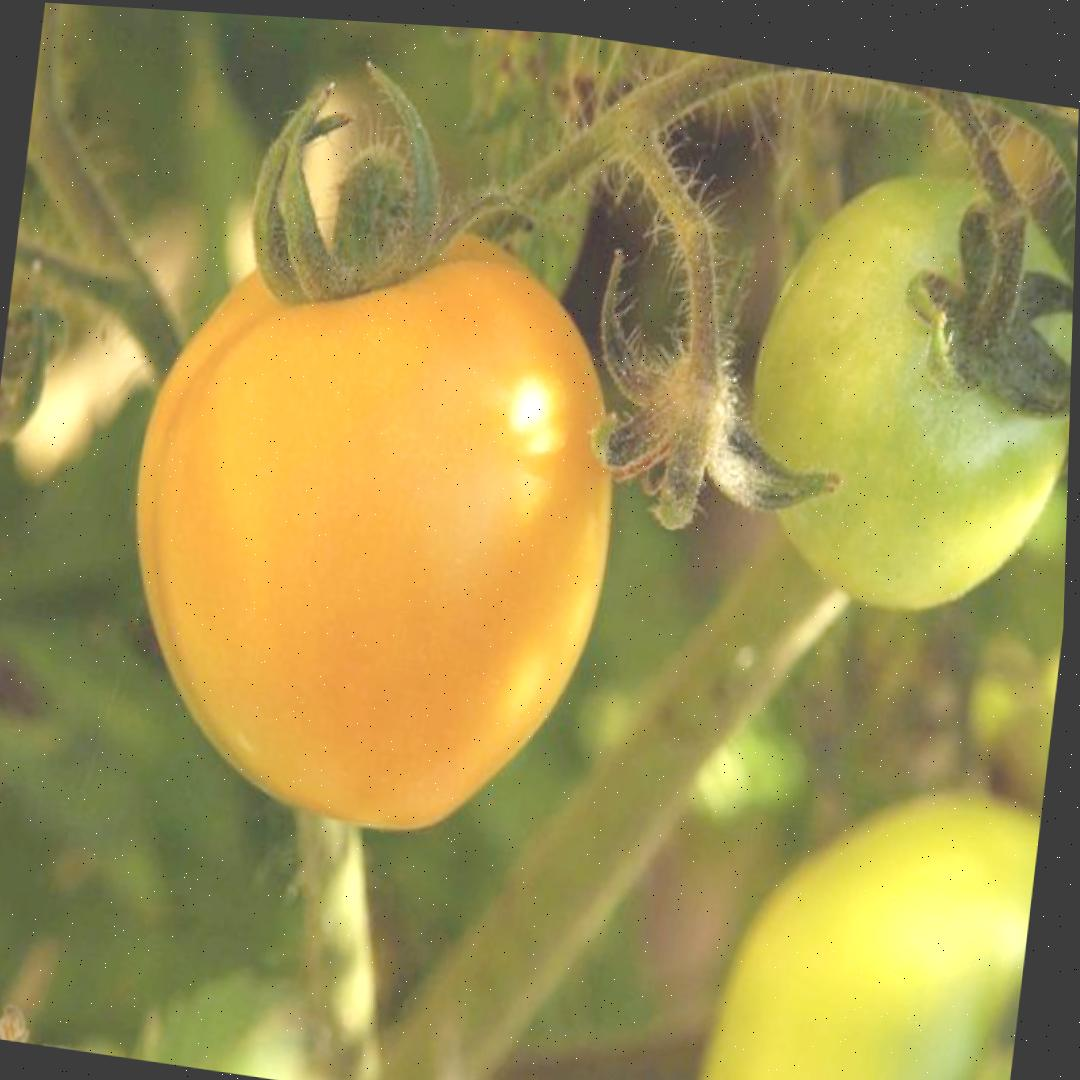mentah: (727, 140, 1077, 635)
setengah_matang: (99, 176, 650, 865)
